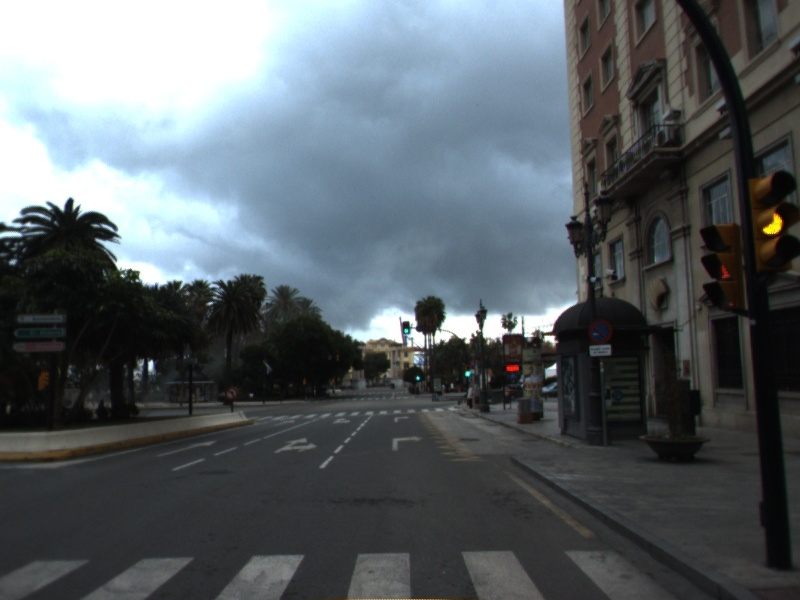RIGHT: (390, 433, 424, 453), (392, 414, 411, 424)
STRAIGHT: (154, 438, 220, 459), (272, 418, 296, 428)
STRAIGHT_RIGHT: (272, 435, 320, 455), (330, 416, 352, 426)
